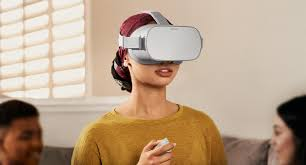oculus: (120, 24, 206, 66)
